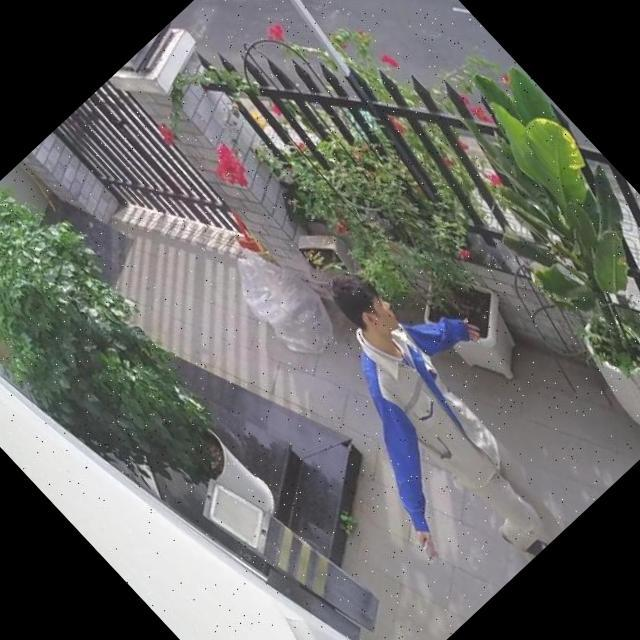person: (242, 228, 618, 611)
